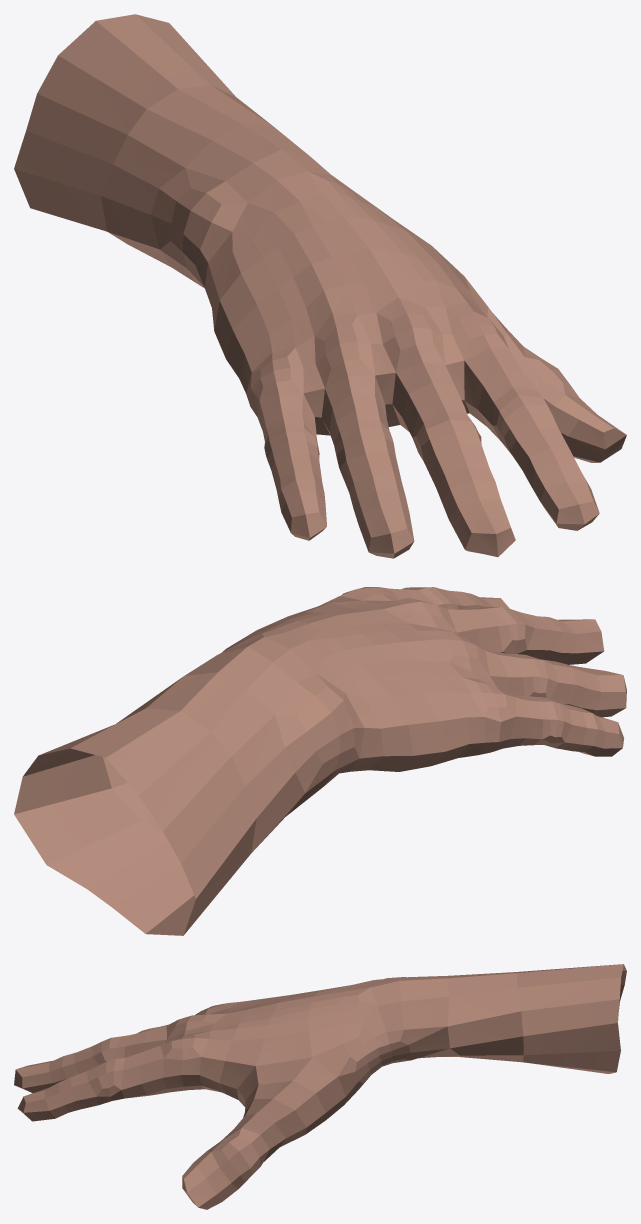
File: 2_5_HandPolygonalRightBack.glb
3 views of the same model, one above another, from view 1: azimuth 30°, elevation 25°; view 2: azimuth 150°, elevation 25°; view 3: azimuth 270°, elevation 25° (orthographic). The views are drawn at different scales.
Visible parts, largest first — view 1: hand_man_polySurface1.004; view 2: hand_man_polySurface1.004; view 3: hand_man_polySurface1.004.
Part boxes in pixels (x1,y1,x2,y2): hand_man_polySurface1.004: (14,14,626,558); hand_man_polySurface1.004: (14,587,626,935); hand_man_polySurface1.004: (14,964,626,1209).
Size of the model in its own units: 0.0799 by 0.0535 by 0.1653.
